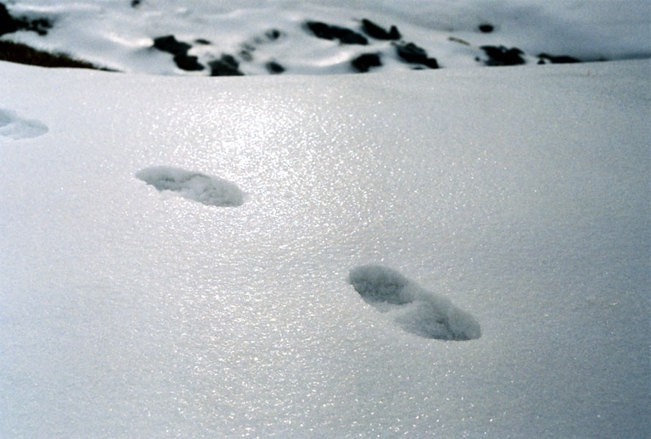human_foot_print: (339, 259, 499, 356), (133, 161, 257, 220), (1, 111, 50, 145)
